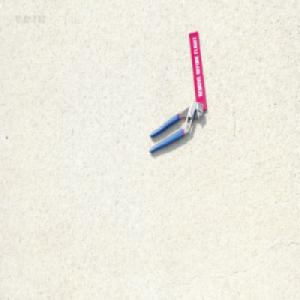Label: (188, 33, 206, 111)
Pliers: (148, 101, 203, 153)
